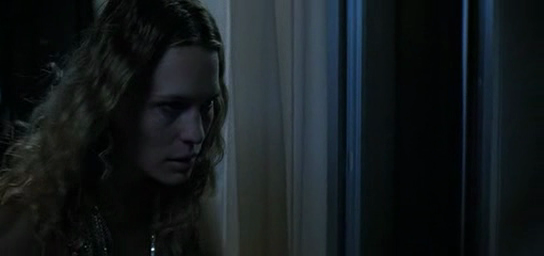cu: (1, 1, 544, 256)
face: (143, 60, 220, 184)
person: (1, 1, 229, 256)
